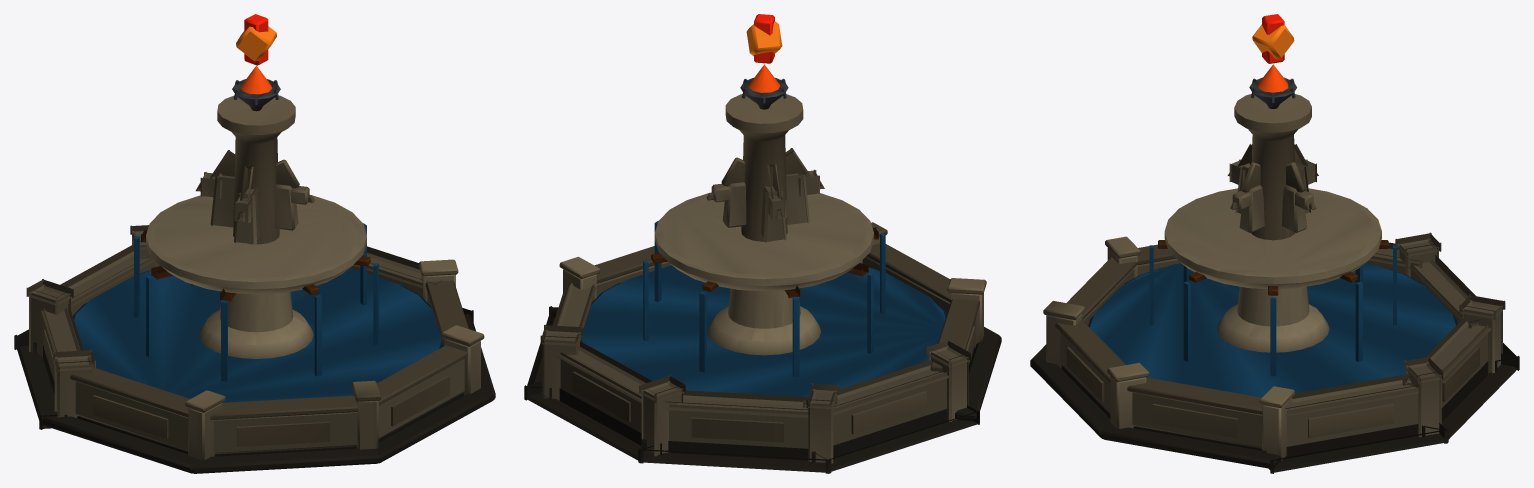
Rendered from Fonte4.fbx.
3 renders of one model, left to right at view 1: azimuth 30°, elevation 25°; view 2: azimuth 150°, elevation 25°; view 3: azimuth 270°, elevation 25°, orthographic.
Visible parts, largest first — view 1: Fonte4, Gem; view 2: Fonte4, Gem; view 3: Fonte4, Gem.
Part boxes in pixels (box(x1,y1,x2,y2)): Fonte4: box(14, 66, 495, 473); Gem: box(236, 14, 276, 65); Fonte4: box(524, 64, 1001, 473); Gem: box(746, 14, 782, 63); Fonte4: box(1030, 64, 1519, 473); Gem: box(1252, 14, 1294, 63).
Size of the model in its own units: 9.52 by 7.5 by 9.45.
